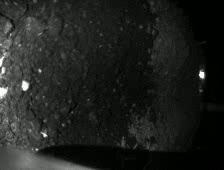corn: (20, 78, 31, 93)
